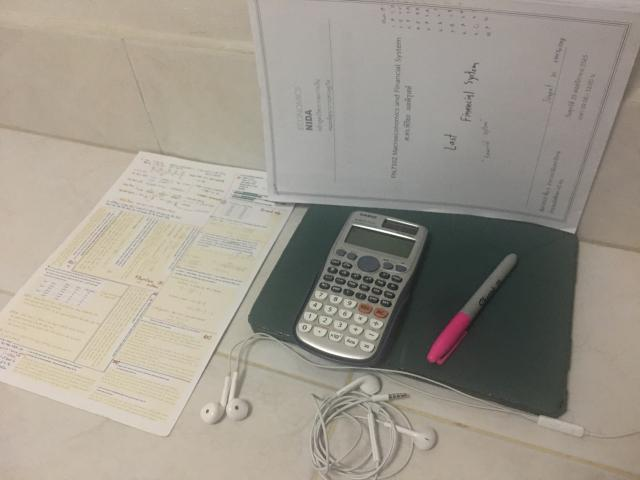Pen: (428, 254, 518, 365)
paper: (249, 0, 640, 232), (0, 152, 312, 435)
wire: (310, 368, 436, 479), (200, 334, 275, 424)
